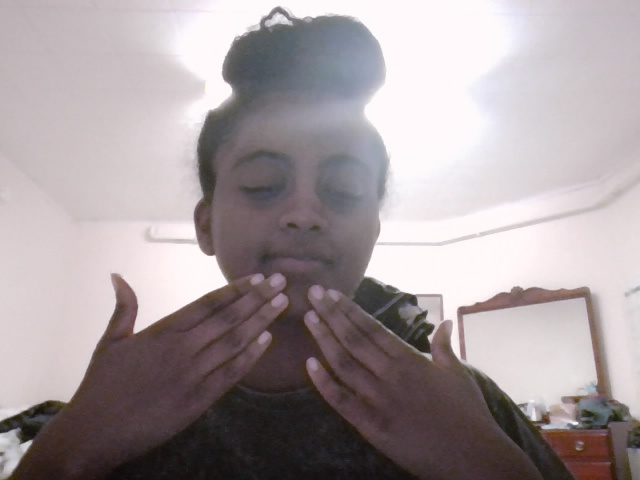Thanks: (45, 274, 514, 480)
